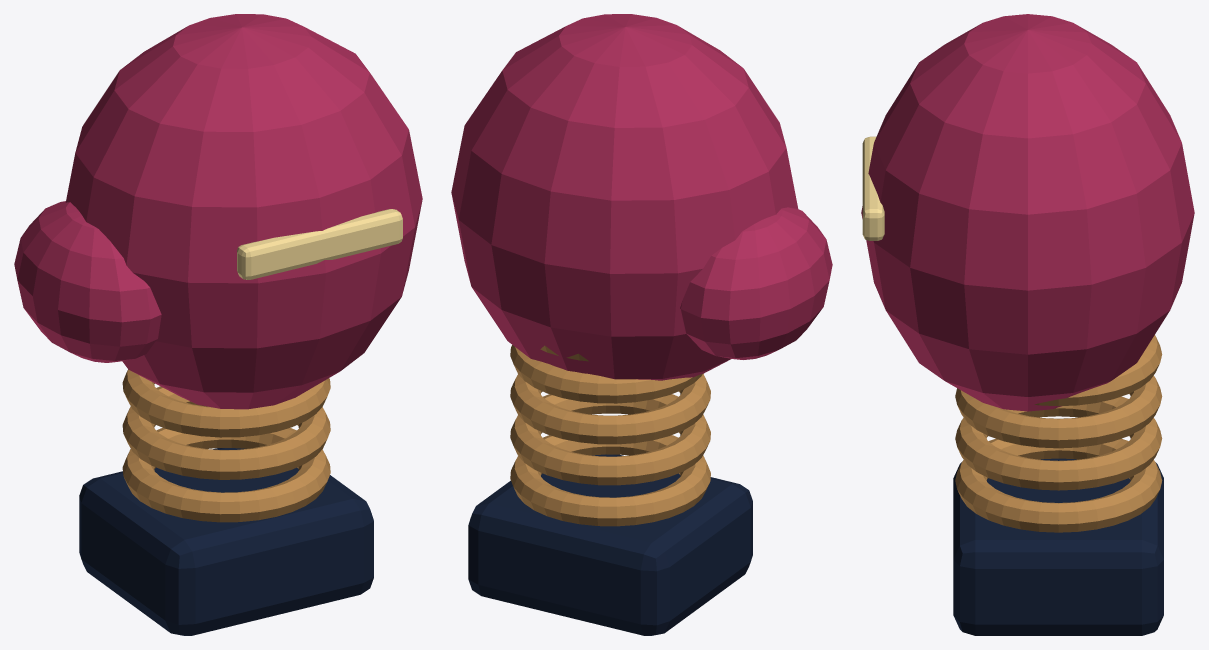
The model's file is Item_spring_glove.fbx.
3 views of the same model, side by side, from view 1: azimuth 30°, elevation 25°; view 2: azimuth 150°, elevation 25°; view 3: azimuth 270°, elevation 25° (orthographic). The views are drawn at different scales.
Visible parts, largest first — view 1: Item_spring_glove.Mesh; view 2: Item_spring_glove.Mesh; view 3: Item_spring_glove.Mesh.
Boxes of the visible parts, left/top/right/bottom form: Item_spring_glove.Mesh: left=14, top=14, right=422, bottom=635; Item_spring_glove.Mesh: left=451, top=14, right=832, bottom=635; Item_spring_glove.Mesh: left=861, top=14, right=1194, bottom=635.
Bounding box in the file's own units: 47.5 × 71 × 38.
